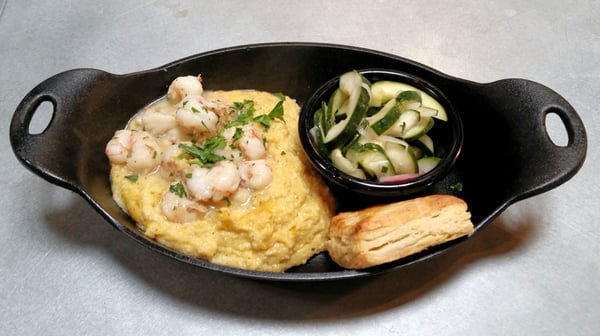sushi: (10, 39, 551, 322), (299, 67, 464, 200)
